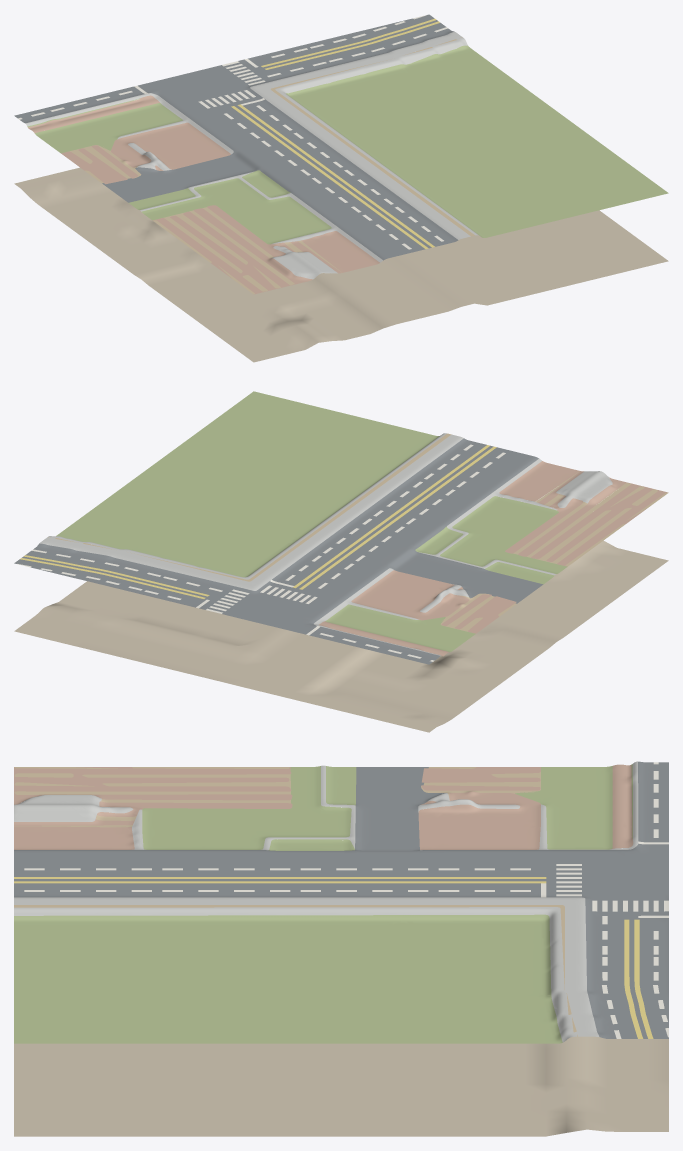
3 views of the same model, one above another, from view 1: azimuth 30°, elevation 25°; view 2: azimuth 150°, elevation 25°; view 3: azimuth 270°, elevation 25° (orthographic). The views are drawn at different scales.
Visible parts, largest first — view 1: s_-4_-3__grass, s_-4_-3__soil, s_-4_-3__asphalt, s_-4_-3__brick_paving, s_-4_-3__stone_paving, s_-4_-3__timber_deck, s_-4_-3__white_marking, s_-4_-3__yellow_marking; view 2: s_-4_-3__grass, s_-4_-3__soil, s_-4_-3__asphalt, s_-4_-3__brick_paving, s_-4_-3__stone_paving, s_-4_-3__timber_deck, s_-4_-3__white_marking, s_-4_-3__yellow_marking; view 3: s_-4_-3__grass, s_-4_-3__soil, s_-4_-3__asphalt, s_-4_-3__brick_paving, s_-4_-3__stone_paving, s_-4_-3__timber_deck, s_-4_-3__yellow_marking, s_-4_-3__white_marking.
Part boxes in pixels (bbox=[...]): s_-4_-3__grass: bbox=[27, 45, 668, 244]; s_-4_-3__soil: bbox=[14, 167, 668, 362]; s_-4_-3__asphalt: bbox=[14, 14, 458, 260]; s_-4_-3__brick_paving: bbox=[28, 95, 379, 294]; s_-4_-3__stone_paving: bbox=[25, 31, 478, 279]; s_-4_-3__timber_deck: bbox=[69, 37, 474, 294]; s_-4_-3__white_marking: bbox=[18, 15, 447, 249]; s_-4_-3__yellow_marking: bbox=[231, 18, 439, 248]; s_-4_-3__grass: bbox=[56, 391, 567, 651]; s_-4_-3__soil: bbox=[14, 540, 668, 732]; s_-4_-3__asphalt: bbox=[14, 438, 543, 664]; s_-4_-3__brick_paving: bbox=[319, 461, 667, 656]; s_-4_-3__stone_paving: bbox=[40, 433, 612, 655]; s_-4_-3__timber_deck: bbox=[48, 433, 668, 631]; s_-4_-3__white_marking: bbox=[17, 444, 505, 661]; s_-4_-3__yellow_marking: bbox=[20, 445, 496, 598]; s_-4_-3__grass: bbox=[14, 764, 632, 1043]; s_-4_-3__soil: bbox=[14, 1036, 668, 1136]; s_-4_-3__asphalt: bbox=[14, 761, 668, 1038]; s_-4_-3__brick_paving: bbox=[14, 764, 633, 849]; s_-4_-3__stone_paving: bbox=[14, 761, 638, 1042]; s_-4_-3__timber_deck: bbox=[14, 767, 577, 1036]; s_-4_-3__yellow_marking: bbox=[14, 877, 653, 1038]; s_-4_-3__white_marking: bbox=[24, 762, 668, 1038].
Size of the model in its own units: 128 by 21.78 by 128.
